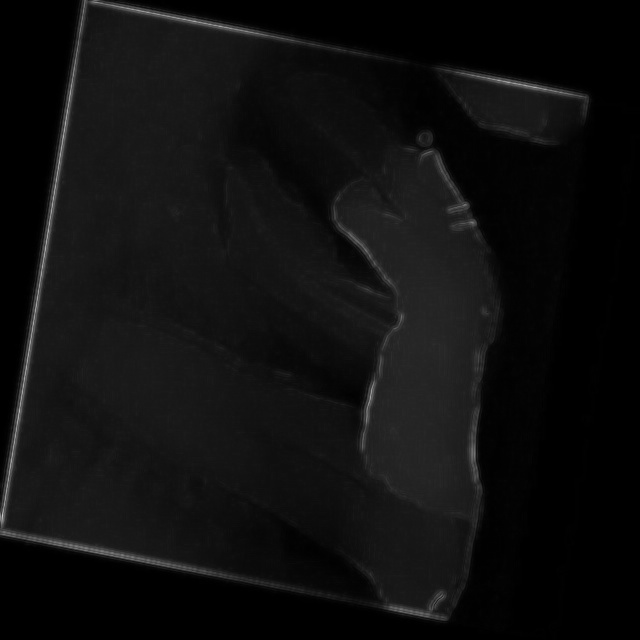Class 2- incomplete endodontic treatment: (135, 42, 591, 522)
